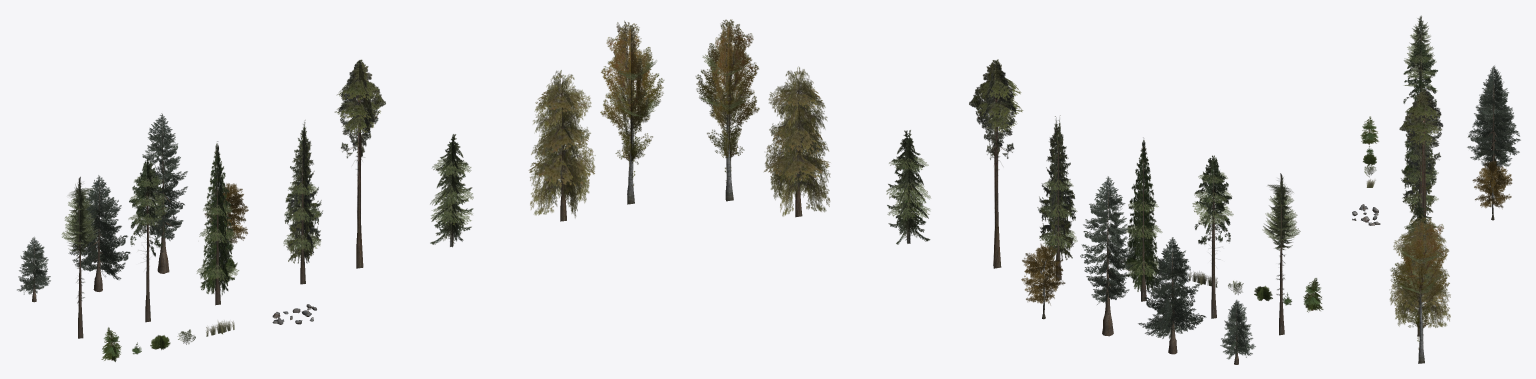
File: forest_trees.glb
3 views of the same model, side by side, from view 1: azimuth 30°, elevation 25°; view 2: azimuth 150°, elevation 25°; view 3: azimuth 270°, elevation 25° (orthographic). The views are drawn at different scales.
Visible parts, largest first — view 1: Background_Tree_Atlas_Background_Tree_Atlas_0, Tree_Branches_01_Tree_Branches_01_0, Tree_Branches_01.001_Tree_Branches_01_0, Tree_Branches_02_Tree_Branches_02_0, Tree_Trunk_01_Tree_Trunk_01_0; view 2: Background_Tree_Atlas_Background_Tree_Atlas_0, Tree_Branches_01_Tree_Branches_01_0, Tree_Branches_02_Tree_Branches_02_0, Tree_Branches_01.001_Tree_Branches_01_0, Tree_Trunk_01_Tree_Trunk_01_0; view 3: Background_Tree_Atlas_Background_Tree_Atlas_0, Tree_Branches_01_Tree_Branches_01_0, Tree_Branches_02_Tree_Branches_02_0, Tree_Trunk_01_Tree_Trunk_01_0, Rocks_Rocks_0.
Part boxes in pixels (x1,y1,x2,y2): Background_Tree_Atlas_Background_Tree_Atlas_0: (61, 20, 664, 361); Tree_Branches_01_Tree_Branches_01_0: (68, 113, 187, 279); Tree_Branches_01.001_Tree_Branches_01_0: (17, 237, 50, 294); Tree_Branches_02_Tree_Branches_02_0: (204, 183, 248, 243); Tree_Trunk_01_Tree_Trunk_01_0: (32, 147, 173, 302); Background_Tree_Atlas_Background_Tree_Atlas_0: (695, 19, 1323, 335); Tree_Branches_01_Tree_Branches_01_0: (1080, 176, 1206, 339); Tree_Branches_02_Tree_Branches_02_0: (1021, 243, 1065, 304); Tree_Branches_01.001_Tree_Branches_01_0: (1220, 300, 1255, 359); Tree_Trunk_01_Tree_Trunk_01_0: (1100, 192, 1238, 364); Background_Tree_Atlas_Background_Tree_Atlas_0: (1360, 15, 1450, 363); Tree_Branches_01_Tree_Branches_01_0: (1467, 65, 1520, 167); Tree_Branches_02_Tree_Branches_02_0: (1472, 160, 1512, 208); Tree_Trunk_01_Tree_Trunk_01_0: (1487, 84, 1500, 195); Rocks_Rocks_0: (1352, 204, 1380, 225).
Bounding box in the file's own units: 101 × 33.75 × 30.38.
6 materials, 6 textured.
